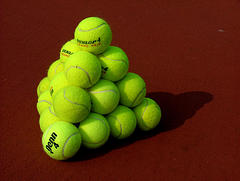tennis ball: (40, 120, 81, 160), (73, 16, 112, 55), (52, 86, 91, 123), (63, 51, 100, 89), (76, 112, 111, 147), (84, 78, 120, 112), (111, 72, 147, 106), (94, 46, 130, 80), (103, 104, 137, 137), (127, 97, 161, 130), (48, 72, 83, 104), (58, 40, 92, 72), (46, 60, 78, 91), (39, 105, 72, 135), (36, 77, 66, 105)
